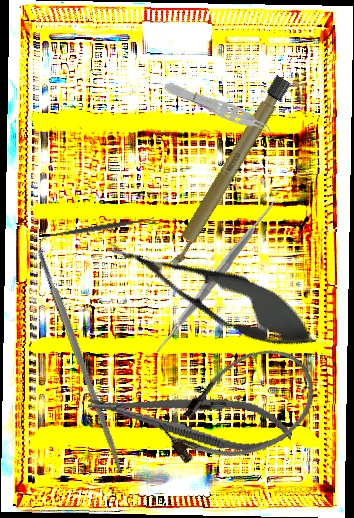Cannula: (147, 331, 332, 488)
Micro Scissor: (96, 219, 329, 366)
Needle Holder: (84, 376, 296, 460)
Scalpel Handle: (163, 74, 292, 270), (35, 247, 126, 473)
Spatula Surgical: (138, 200, 293, 353), (39, 213, 156, 244)
Tissue Forceps: (161, 77, 279, 142)
